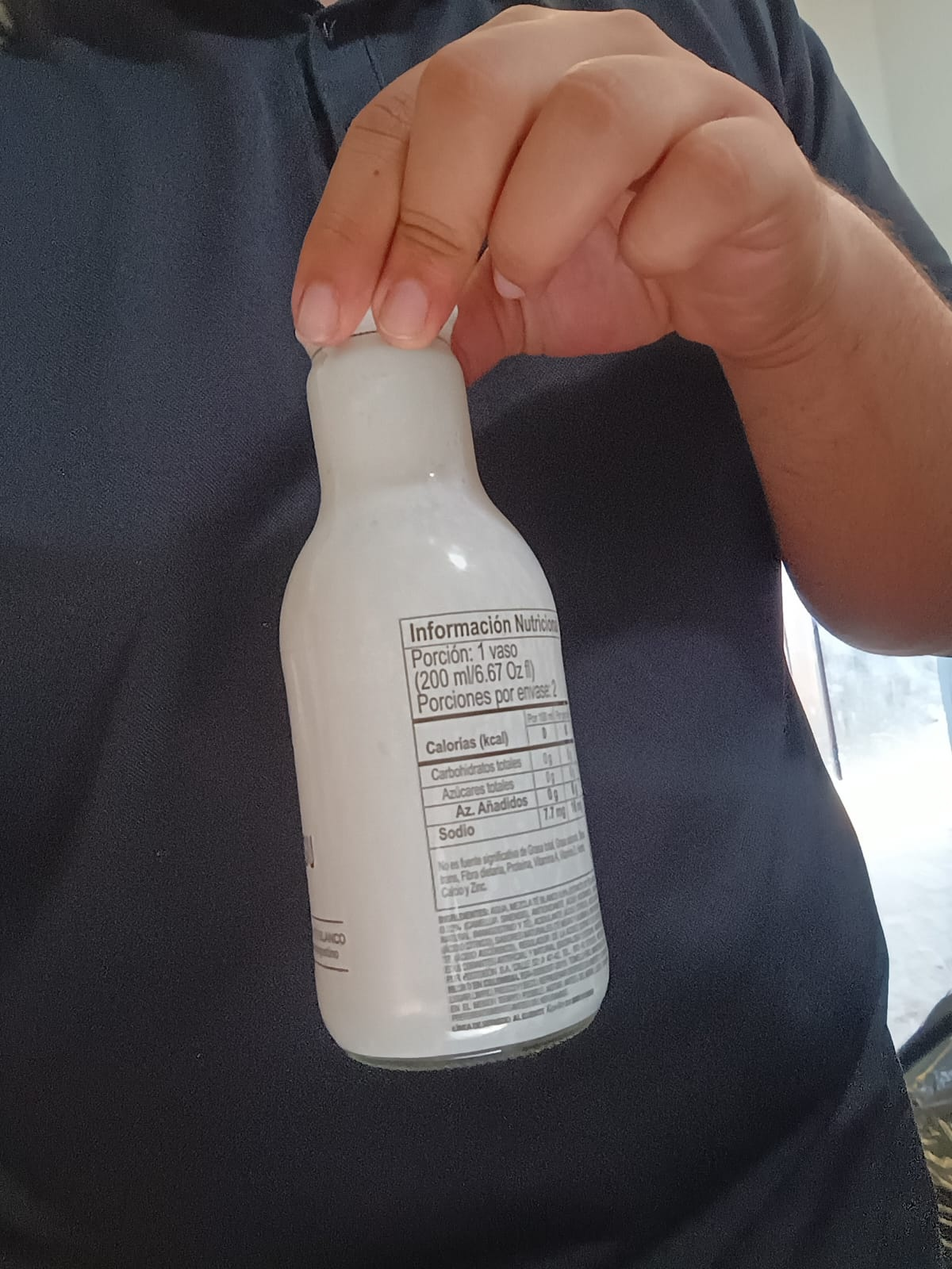Vidrio: (278, 294, 616, 1074)
